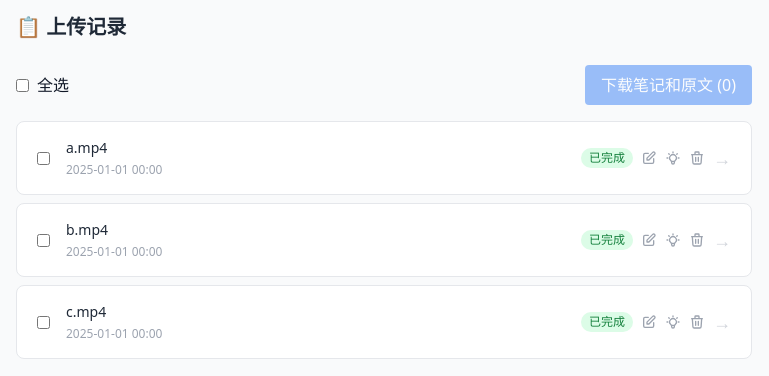
Test case: VideoListPage - 选择逻辑 › 点击复选框选中单个视频
What coordinates should you click on to do the following:
click the checkbox next to "a.mp4"
I would click on:
 (44, 158)
Its box is [37,152,50,164].
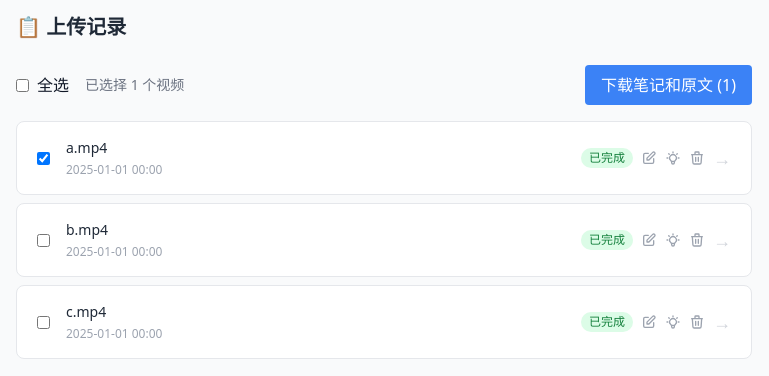
Now the text "已选择 1 个视频" is shown, box [85,75,184,95]
Now the button "下载笔记和原文 (1)" is enabled, box [585,65,752,105]
